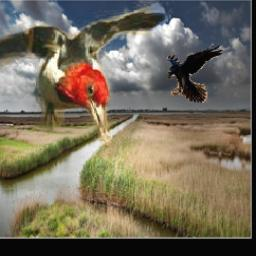Crow: (167, 44, 223, 104)
Woodpecker: (0, 0, 177, 150)
